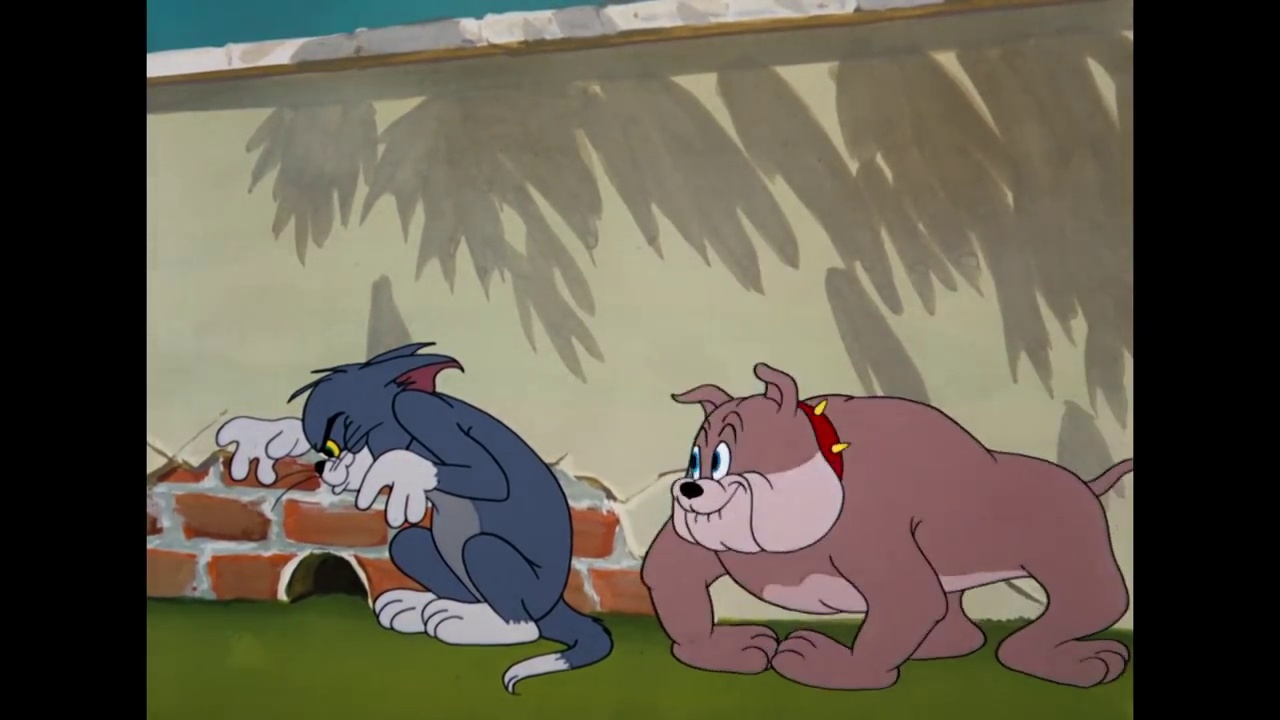spike: (665, 359, 854, 565)
tom: (282, 338, 472, 500)
